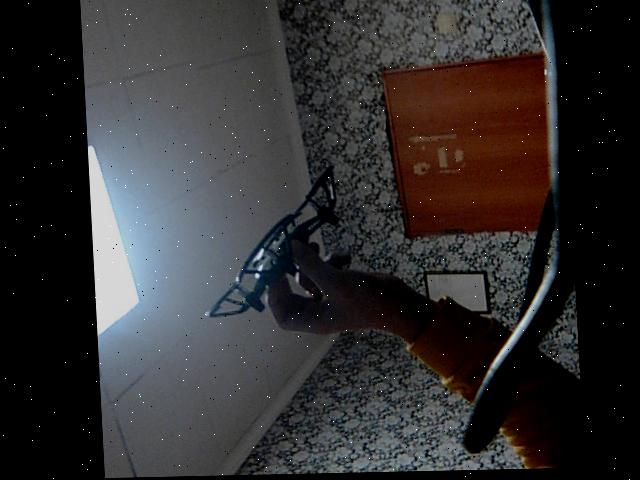drone: (198, 167, 363, 332)
